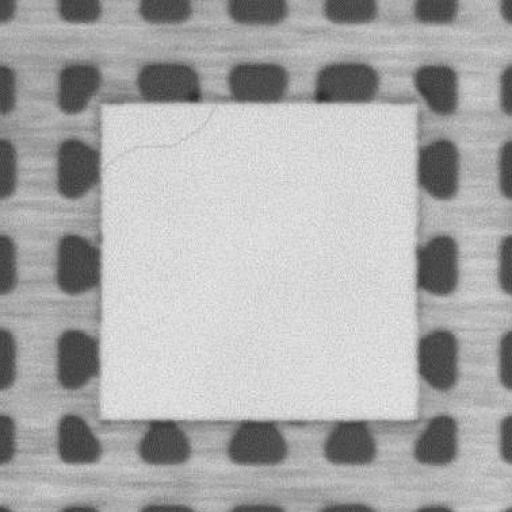DIE_CRACK: (102, 105, 214, 169)
